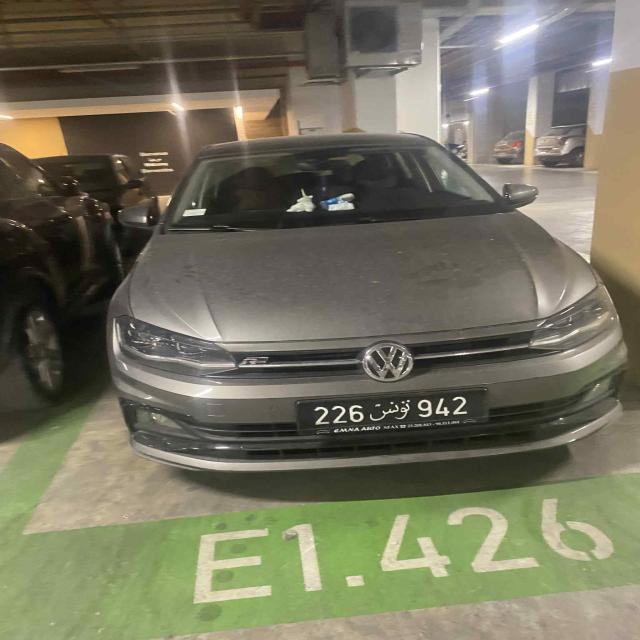licence plate: (300, 391, 486, 430)
